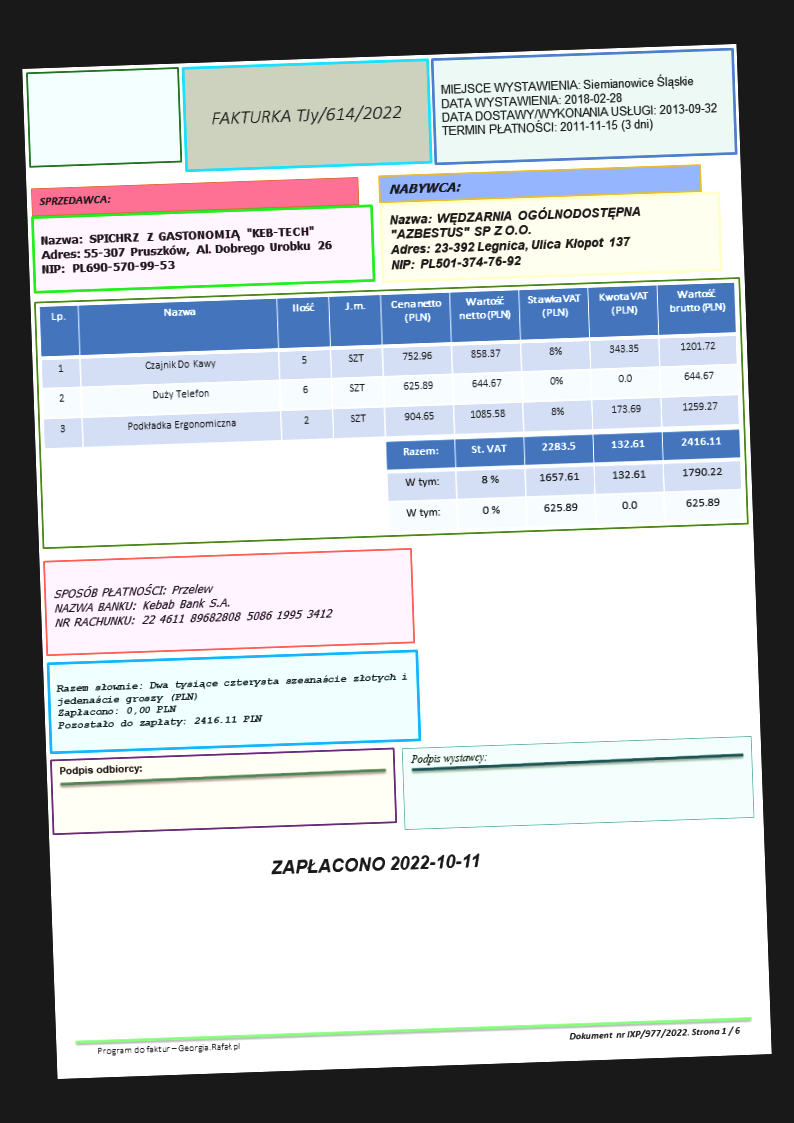Table: (38, 281, 740, 449), (385, 427, 744, 533)
TextBox: (55, 671, 409, 732), (438, 72, 720, 141), (387, 203, 644, 271), (39, 223, 334, 277), (50, 576, 334, 630), (268, 849, 483, 877), (208, 103, 402, 128), (566, 1025, 741, 1043), (94, 1040, 242, 1058), (407, 748, 488, 768), (56, 761, 144, 779), (36, 191, 112, 210), (386, 179, 463, 197)
